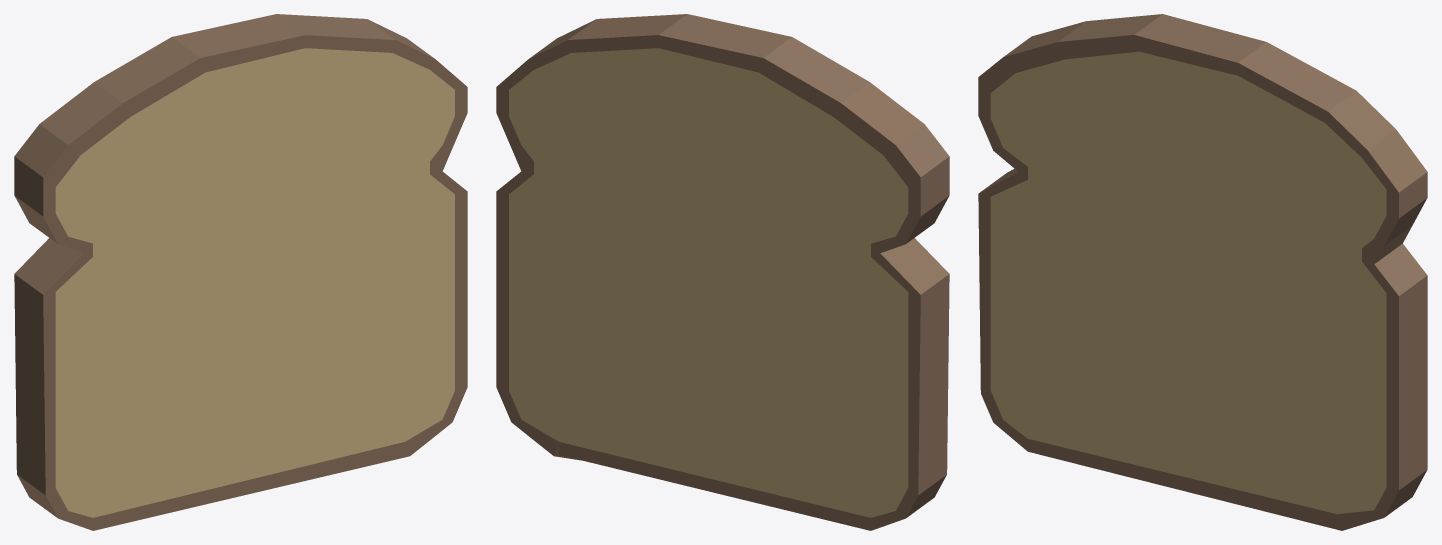
File: Dilim_Ekmek.fbx
The picture shows the model from 3 angles, left to right: view 1: azimuth 30°, elevation 25°; view 2: azimuth 150°, elevation 25°; view 3: azimuth 330°, elevation 25°; orthographic projection.
Visible parts, largest first — view 1: model; view 2: model; view 3: model.
Part boxes in pixels (<box>): model: <box>14,14,467,530</box>; model: <box>496,14,949,530</box>; model: <box>978,14,1427,530</box>.
Bounding box in the file's own units: 44.78 × 45.31 × 5.27.
